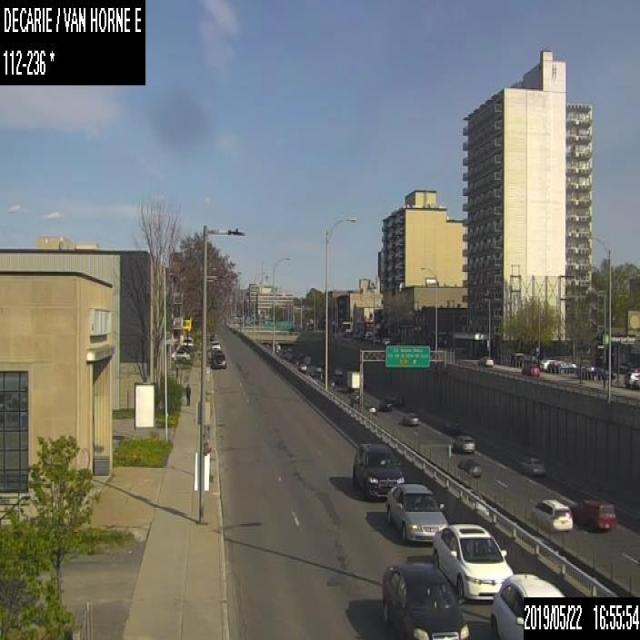pedestrian: (184, 381, 191, 404)
vehicle: (382, 560, 470, 639), (432, 522, 514, 601), (490, 572, 564, 638), (384, 480, 448, 544), (352, 441, 405, 500), (529, 495, 572, 532), (517, 456, 545, 475), (456, 456, 480, 475), (452, 433, 473, 452), (399, 409, 420, 428), (209, 349, 226, 368), (442, 418, 459, 436), (521, 361, 540, 376), (344, 370, 358, 390), (539, 357, 557, 370), (547, 359, 565, 372), (624, 371, 639, 386), (385, 392, 403, 404), (171, 348, 189, 360), (365, 404, 377, 420), (477, 356, 494, 367), (508, 352, 523, 364), (378, 399, 392, 411), (350, 388, 358, 401), (210, 340, 220, 349), (297, 363, 305, 370), (334, 367, 341, 374)
